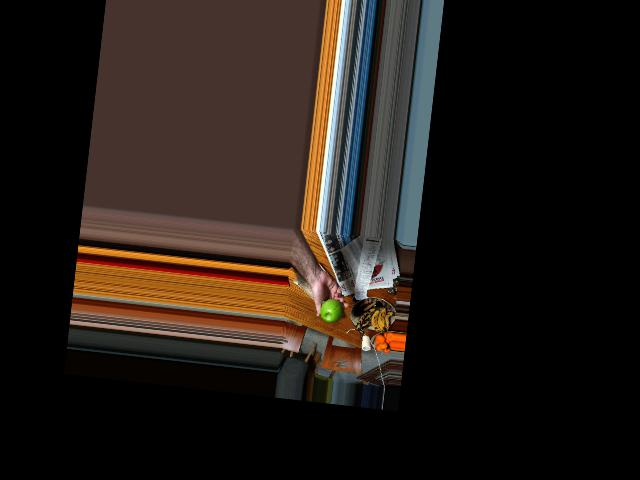apple: (315, 295, 346, 325)
